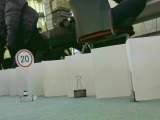speed_20: (14, 49, 35, 69)
